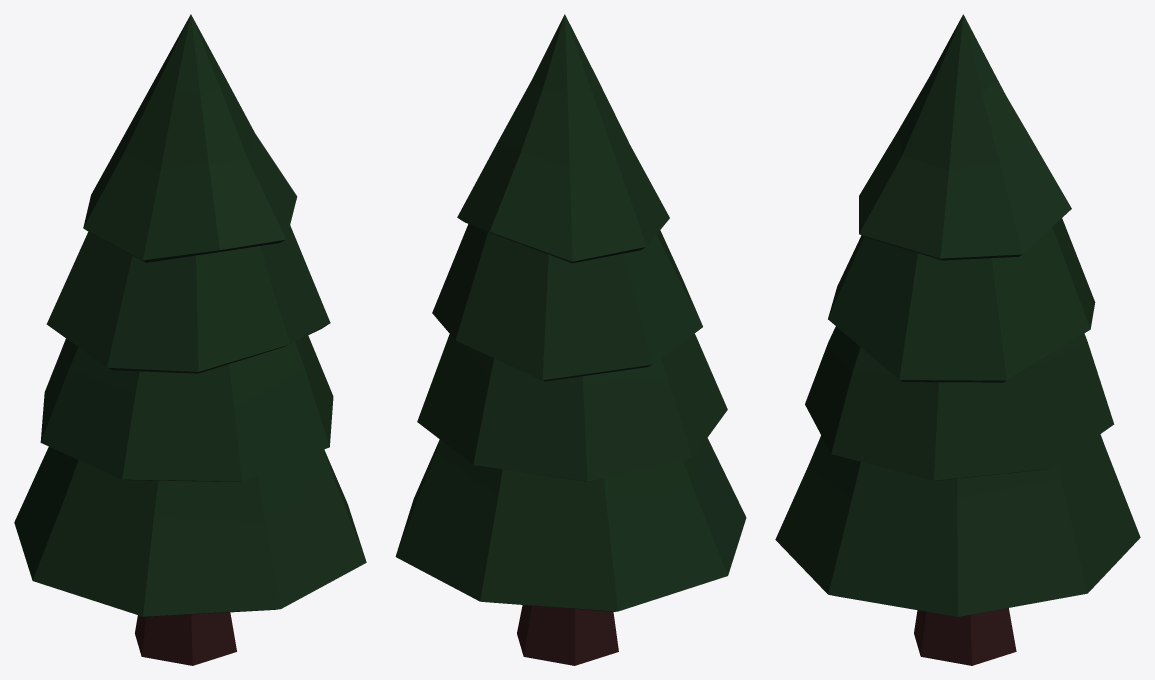
The model's file is PineTree(1).fbx.
3 renders of one model, left to right at view 1: azimuth 30°, elevation 25°; view 2: azimuth 150°, elevation 25°; view 3: azimuth 270°, elevation 25°, orthographic.
Parts seen in each view (by area): view 1: PineTree(1); view 2: PineTree(1); view 3: PineTree(1).
Boxes of the visible parts, box(x1,y1,x2,y2) form: PineTree(1): box(14, 14, 366, 665); PineTree(1): box(395, 14, 746, 665); PineTree(1): box(775, 14, 1140, 665).
Size of the model in its own units: 2.38 by 4.54 by 2.38.
